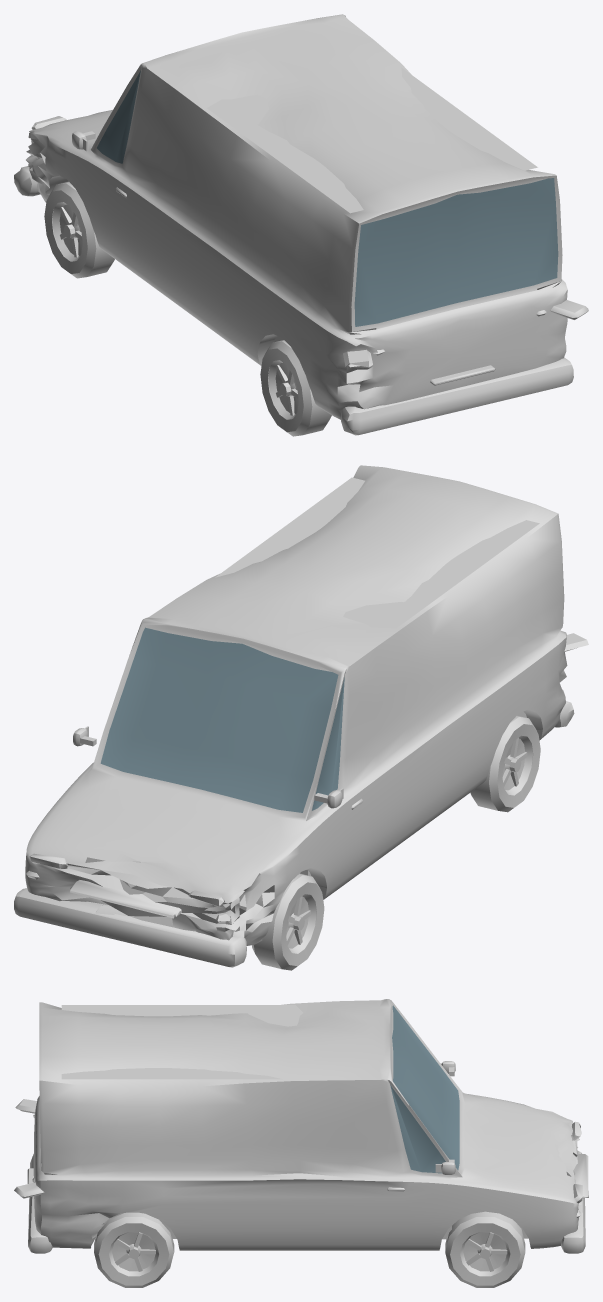
Rendered from car_van_dmg2.glb.
3 views of the same model, one above another, from view 1: azimuth 30°, elevation 25°; view 2: azimuth 150°, elevation 25°; view 3: azimuth 270°, elevation 25° (orthographic). The views are drawn at different scales.
Visible parts, largest first — view 1: car_van_dmg2; view 2: car_van_dmg2; view 3: car_van_dmg2.
Boxes of the visible parts, x1=… form: car_van_dmg2: x1=14, y1=14, x2=588, y2=436; car_van_dmg2: x1=14, y1=465, x2=588, y2=970; car_van_dmg2: x1=14, y1=999, x2=588, y2=1287.
Bounding box in the file's own units: 2.22 × 2.07 × 5.16.
